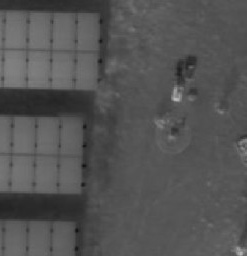solar: (48, 47, 78, 89), (1, 9, 30, 51), (25, 9, 54, 51), (50, 10, 79, 52), (74, 10, 103, 52), (73, 48, 102, 90), (10, 113, 39, 155), (34, 113, 63, 155), (57, 114, 86, 156), (9, 152, 38, 194), (32, 152, 61, 194), (57, 153, 86, 195), (26, 47, 54, 89), (1, 46, 28, 88)
